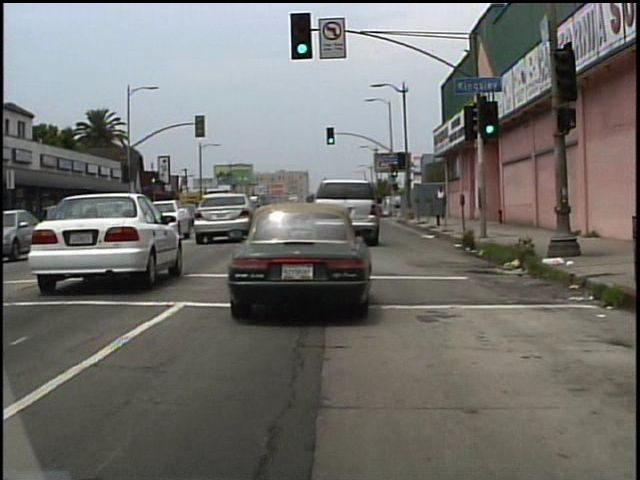person: (434, 184, 448, 217)
